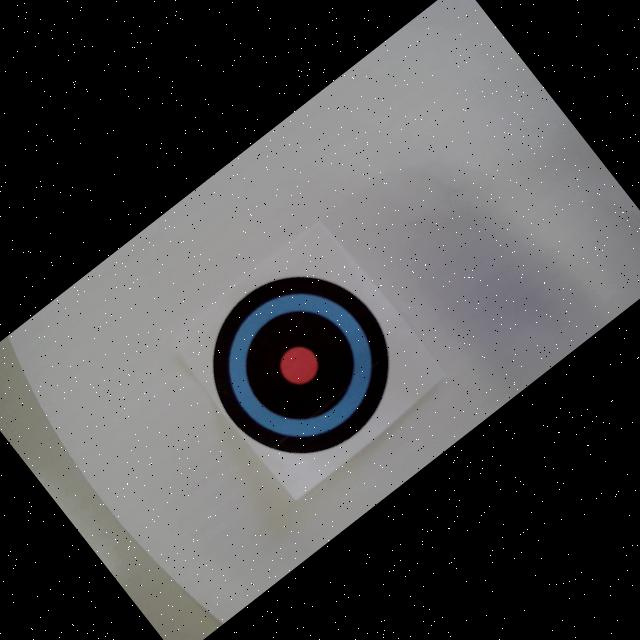COGNITIVE: (176, 240, 426, 490)
